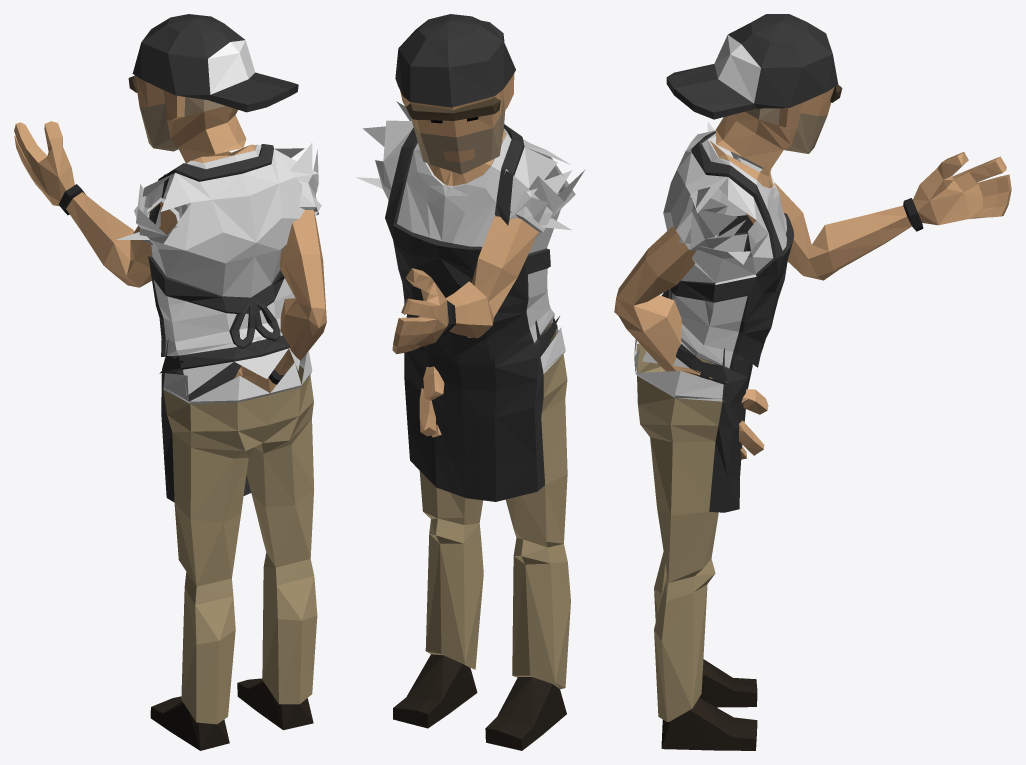
File: Cop_runs.obj
3 renders of one model, left to right at view 1: azimuth 30°, elevation 25°; view 2: azimuth 150°, elevation 25°; view 3: azimuth 270°, elevation 25°, orthographic. The views are drawn at different scales.
Visible parts, largest first — view 1: Cop_runs; view 2: Cop_runs; view 3: Cop_runs.
Boxes of the visible parts, x1,y1,x2,y2 form: Cop_runs: (14,14,326,750); Cop_runs: (356,14,585,750); Cop_runs: (614,14,1011,750).
Bounding box in the file's own units: 0.5658 × 1.8 × 0.9298.
1 material, 1 textured.
